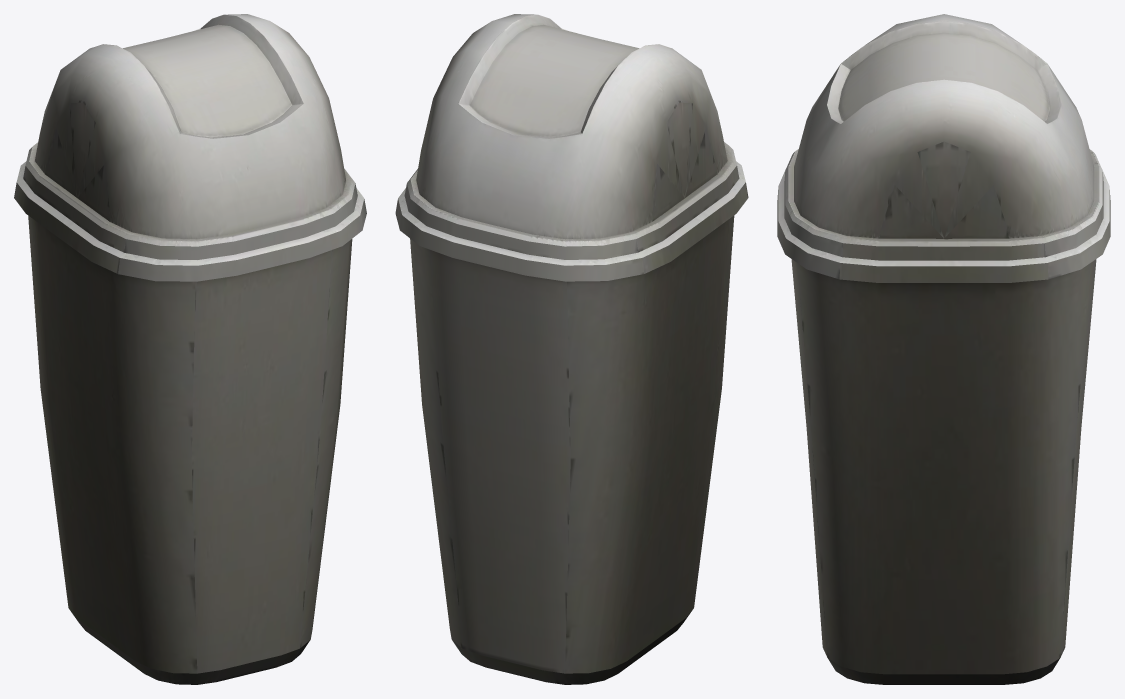
3 views of the same model, side by side, from view 1: azimuth 30°, elevation 25°; view 2: azimuth 150°, elevation 25°; view 3: azimuth 270°, elevation 25° (orthographic).
Parts seen in each view (by area): view 1: body0_model0_lod0_mesh0; view 2: body0_model0_lod0_mesh0; view 3: body0_model0_lod0_mesh0.
Part boxes in pixels (left/top/right/bottom): body0_model0_lod0_mesh0: left=14, top=14, right=366, bottom=684; body0_model0_lod0_mesh0: left=395, top=14, right=748, bottom=684; body0_model0_lod0_mesh0: left=777, top=14, right=1110, bottom=684.
Size of the model in its own units: 28.79 by 62.25 by 31.45.
Materials: 1 (1 with a texture image).
